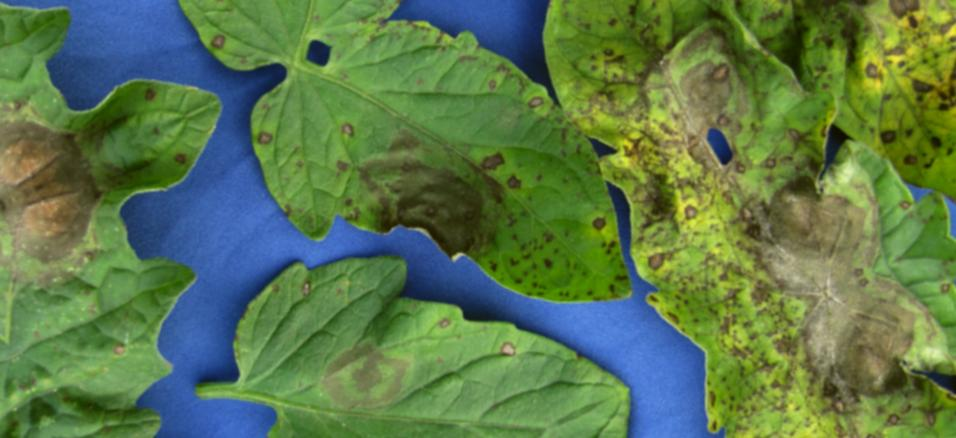Tomato leaf late blight: (213, 0, 676, 438), (0, 42, 460, 438), (482, 0, 956, 369), (194, 153, 667, 438), (557, 0, 956, 333), (80, 378, 387, 438)
